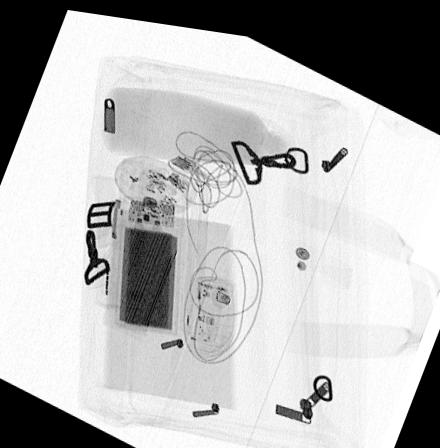Powerbank: (115, 190, 182, 328)
